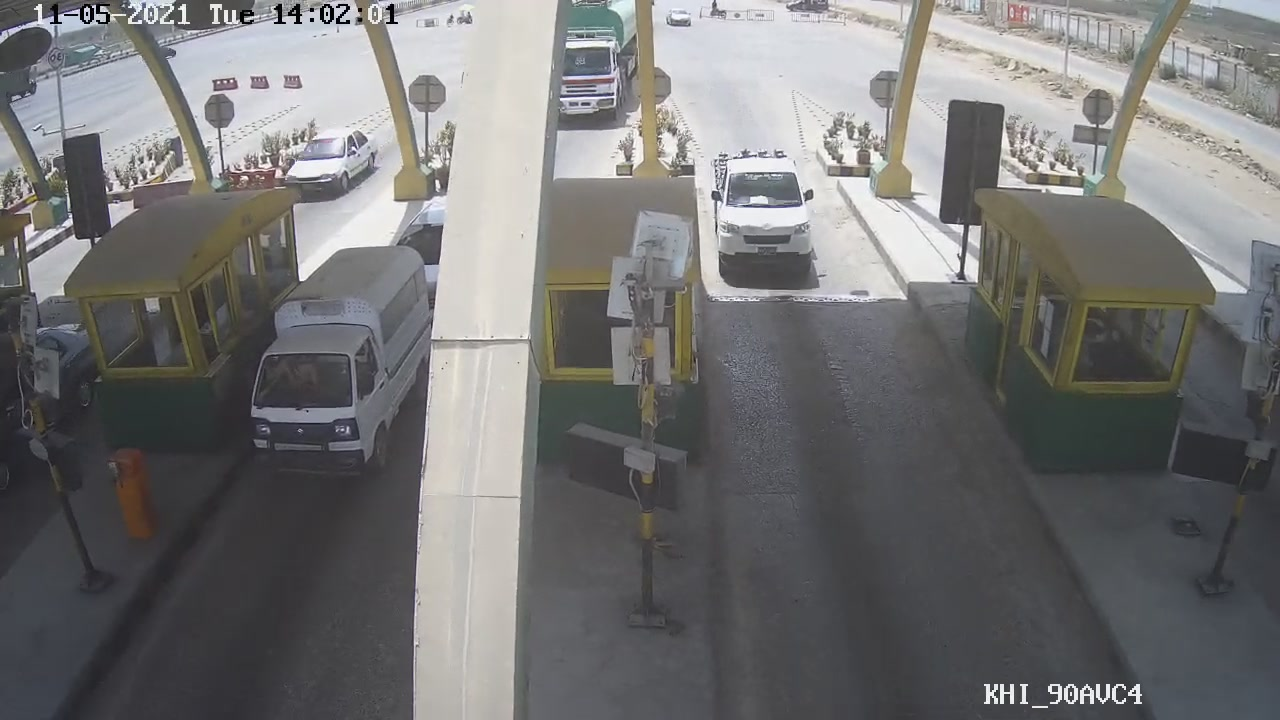F2: (701, 137, 816, 281)
